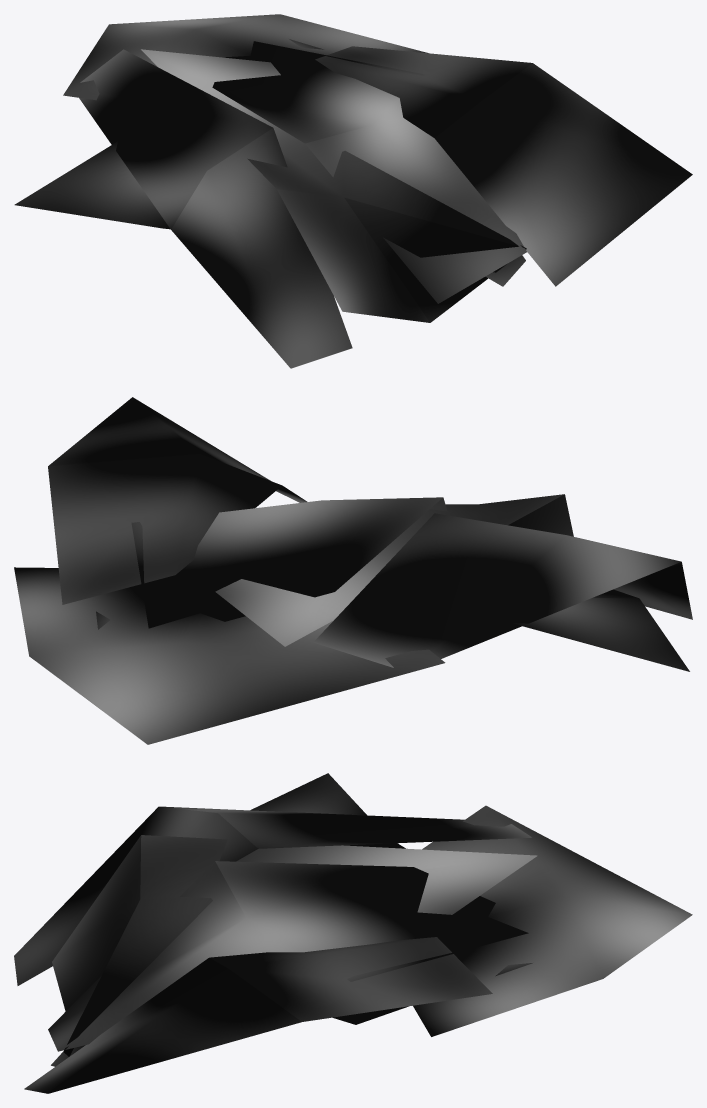
Rendered from SM_IvyEdge.fbx.
The picture shows the model from 3 angles, top to bottom: view 1: azimuth 30°, elevation 25°; view 2: azimuth 150°, elevation 25°; view 3: azimuth 270°, elevation 25°; orthographic projection. The views are drawn at different scales.
Parts seen in each view (by area): view 1: SM_IvyEdge; view 2: SM_IvyEdge; view 3: SM_IvyEdge.
Boxes of the visible parts, x1=… form: SM_IvyEdge: x1=14, y1=14, x2=692, y2=368; SM_IvyEdge: x1=14, y1=397, x2=692, y2=744; SM_IvyEdge: x1=14, y1=773, x2=692, y2=1093.
Size of the model in its own units: 150 by 141 by 40.67.
Materials: 1 (1 with a texture image).
